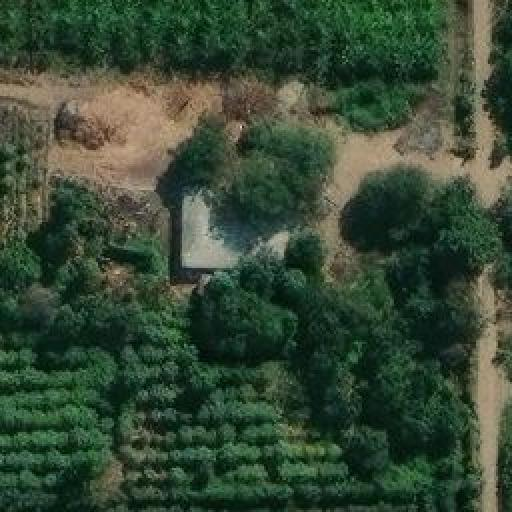manzanas: (171, 176, 289, 277)
